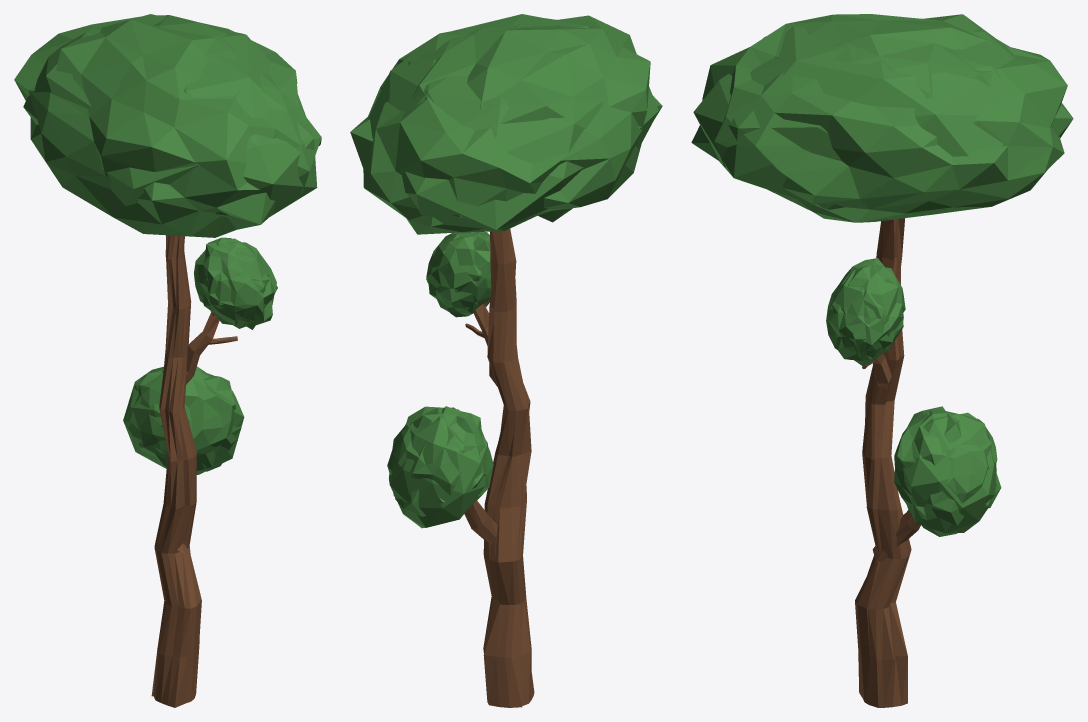
The model's file is tallTree.fbx.
The picture shows the model from 3 angles, left to right: view 1: azimuth 30°, elevation 25°; view 2: azimuth 150°, elevation 25°; view 3: azimuth 270°, elevation 25°; orthographic projection.
Parts seen in each view (by area): view 1: GeneratedLeaves, GeneratedBranch, LOD_Test_2, GeneratedLeaves_1, GeneratedLeaves_2, LOD_Test, LOD_Test_1, GeneratedBranch_2; view 2: GeneratedLeaves, GeneratedBranch, LOD_Test_2, LOD_Test, GeneratedLeaves_1, GeneratedLeaves_2, GeneratedBranch_1, LOD_Test_1; view 3: GeneratedLeaves, LOD_Test_2, GeneratedBranch, GeneratedLeaves_1, LOD_Test, GeneratedLeaves_2, LOD_Test_1, GeneratedBranch_1.
Boxes of the visible parts, left/top/right/bottom form: GeneratedLeaves: left=14, top=15, right=321, bottom=237; GeneratedBranch: left=151, top=235, right=201, bottom=707; LOD_Test_2: left=23, top=14, right=317, bottom=216; GeneratedLeaves_1: left=125, top=366, right=241, bottom=472; GeneratedLeaves_2: left=194, top=237, right=276, bottom=329; LOD_Test: left=123, top=366, right=244, bottom=474; LOD_Test_1: left=202, top=238, right=277, bottom=328; GeneratedBranch_2: left=184, top=313, right=219, bottom=384; GeneratedLeaves: left=350, top=15, right=662, bottom=234; GeneratedBranch: left=483, top=229, right=534, bottom=707; LOD_Test_2: left=368, top=14, right=658, bottom=229; LOD_Test: left=388, top=407, right=487, bottom=528; GeneratedLeaves_1: left=387, top=406, right=493, bottom=527; GeneratedLeaves_2: left=426, top=231, right=491, bottom=317; GeneratedBranch_1: left=464, top=500, right=497, bottom=543; LOD_Test_1: left=428, top=232, right=490, bottom=311; GeneratedLeaves: left=691, top=14, right=1067, bottom=222; LOD_Test_2: left=693, top=26, right=1073, bottom=221; GeneratedBranch: left=855, top=218, right=911, bottom=707; GeneratedLeaves_1: left=894, top=406, right=1001, bottom=536; LOD_Test: left=903, top=413, right=996, bottom=533; GeneratedLeaves_2: left=826, top=258, right=905, bottom=366; LOD_Test_1: left=828, top=259, right=898, bottom=356; GeneratedBranch_1: left=872, top=510, right=920, bottom=562.
Size of what is drawn, in the model's own units: 1240 by 3381 by 1751.
